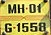character: (7, 3, 17, 14), (4, 22, 13, 32), (29, 22, 38, 32), (16, 2, 24, 13), (28, 2, 36, 13), (38, 21, 46, 32), (28, 3, 36, 13), (21, 22, 29, 32), (36, 3, 42, 13), (16, 22, 21, 32)
